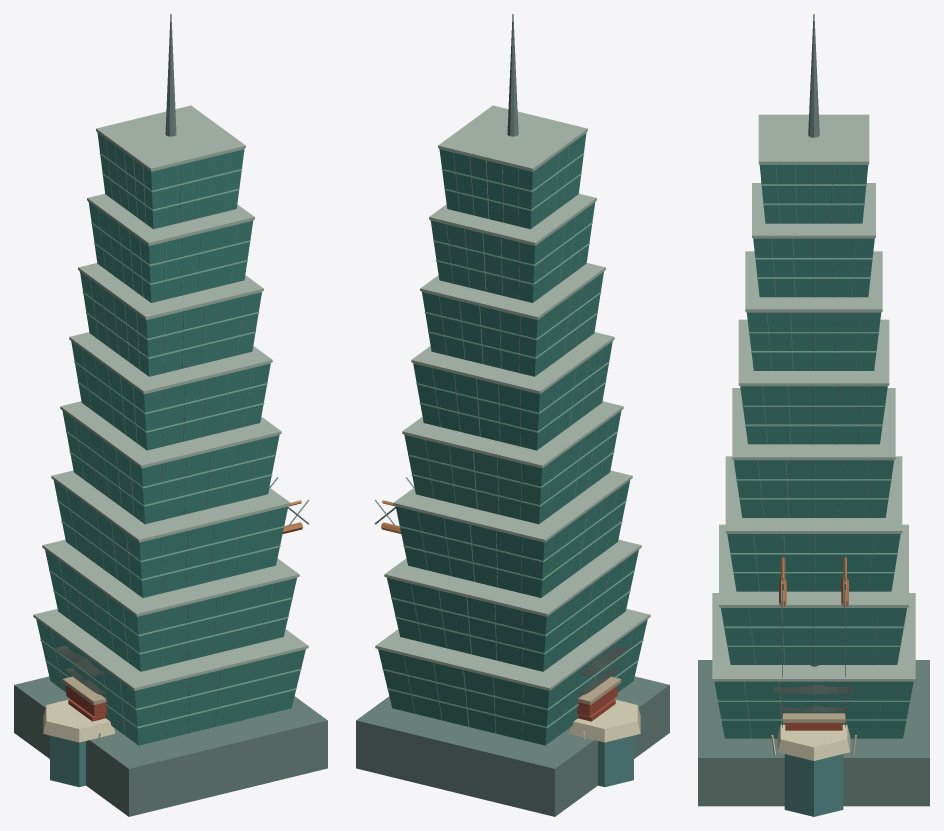
The model's file is taiwan-environment-v1.glb.
3 views of the same model, side by side, from view 1: azimuth 30°, elevation 25°; view 2: azimuth 150°, elevation 25°; view 3: azimuth 270°, elevation 25° (orthographic).
Parts seen in each view (by area): view 1: tower_Glass, tower_Metal, tower_Stone, ocean_Stone, ocean_Glass, gate_Roof, gate_Masonry; view 2: tower_Glass, tower_Metal, tower_Stone, ocean_Stone, ocean_Glass, gate_Roof, gate_Masonry; view 3: tower_Glass, tower_Metal, tower_Stone, ocean_Glass, ocean_Stone, gate_Roof, crane_Metal, gate_Stone, gate_Masonry.
Boxes of the visible parts, x1,y1,x2,y2 form: tower_Glass: [36, 133, 305, 745]; tower_Metal: [33, 14, 308, 740]; tower_Stone: [14, 676, 327, 816]; ocean_Stone: [43, 699, 114, 742]; ocean_Glass: [50, 735, 85, 787]; gate_Roof: [56, 645, 106, 694]; gate_Masonry: [66, 685, 106, 721]; tower_Glass: [378, 133, 647, 745]; tower_Metal: [375, 14, 650, 740]; tower_Stone: [356, 676, 669, 816]; ocean_Stone: [569, 699, 640, 742]; ocean_Glass: [598, 735, 633, 787]; gate_Roof: [577, 645, 627, 694]; gate_Masonry: [577, 685, 617, 721]; tower_Glass: [714, 165, 913, 738]; tower_Metal: [712, 14, 915, 738]; tower_Stone: [698, 660, 929, 806]; ocean_Glass: [784, 754, 843, 816]; ocean_Stone: [777, 724, 850, 760]; gate_Roof: [774, 665, 853, 711]; crane_Metal: [779, 557, 848, 727]; gate_Stone: [782, 713, 845, 722]; gate_Masonry: [785, 723, 842, 730].
Bounding box in the file's own units: 33.4 × 92.03 × 26.
